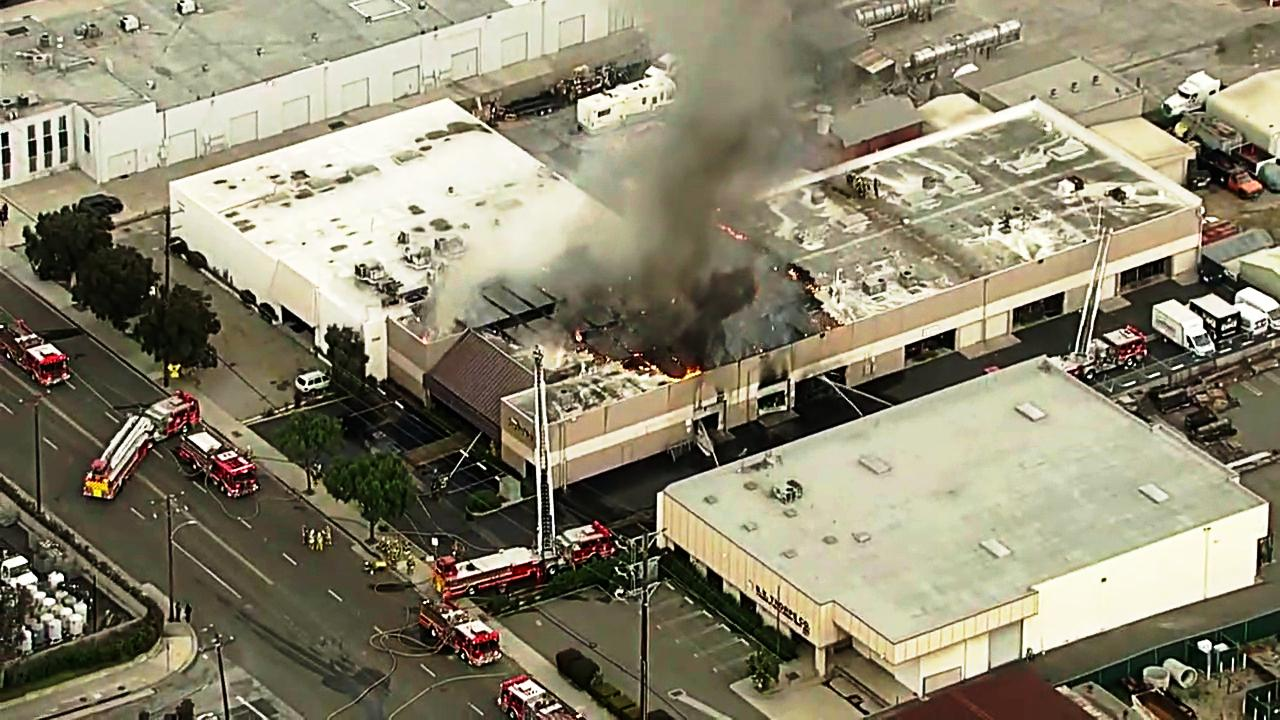smoke: (647, 242, 739, 342)
